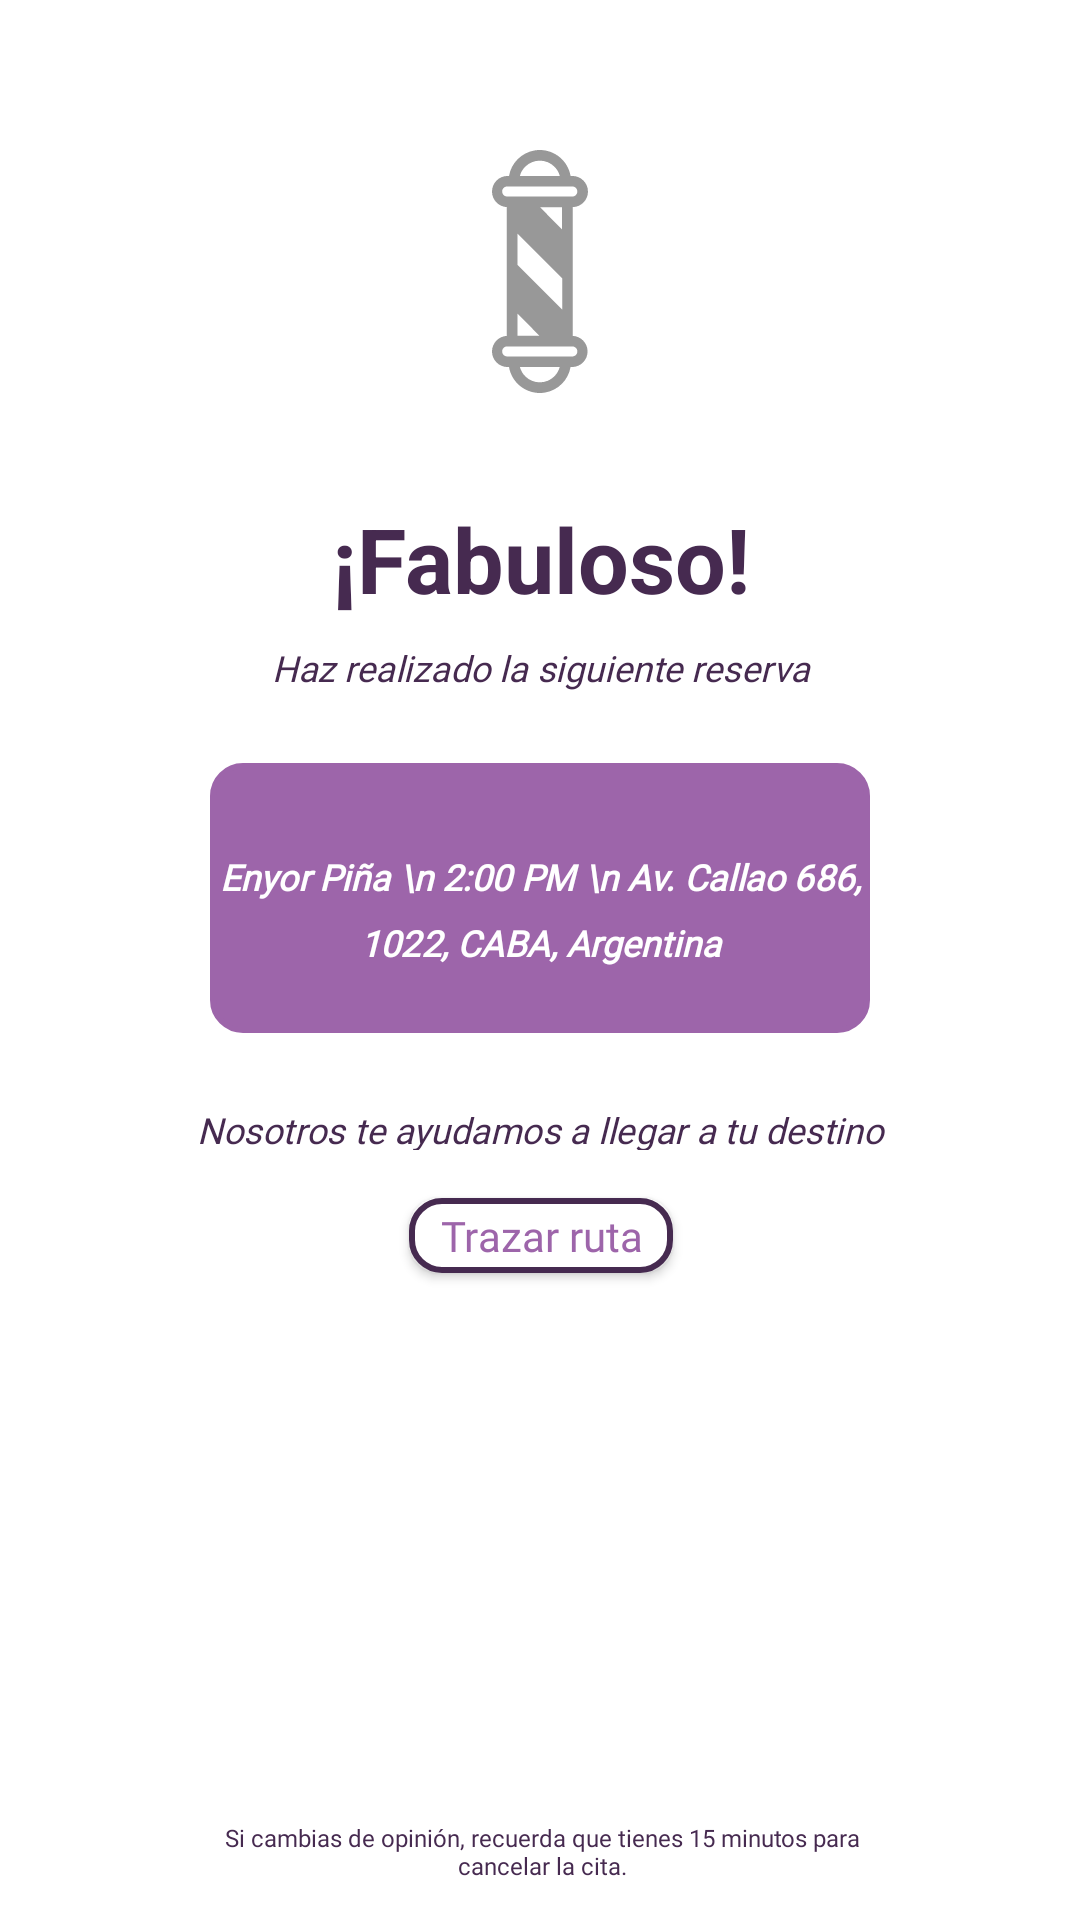

Named icons in this screenshot (1080x1920) and their centers, (x=x, y=y):
barber: (x=540, y=271)
